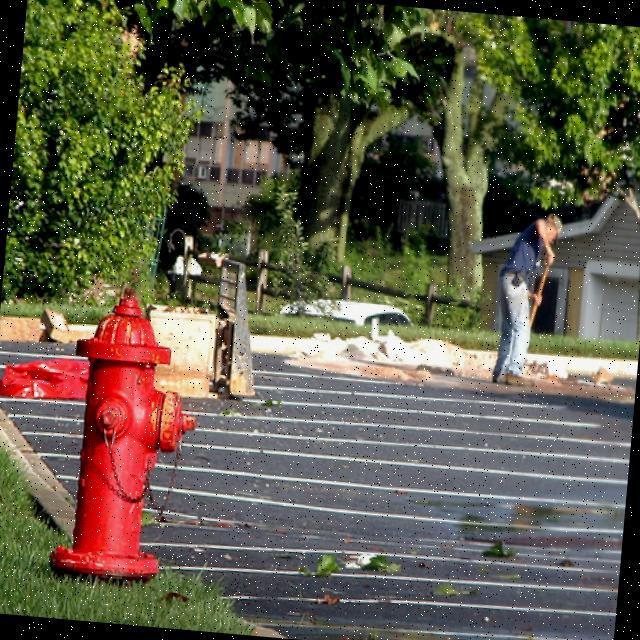fire_hydrant: (46, 284, 210, 590)
